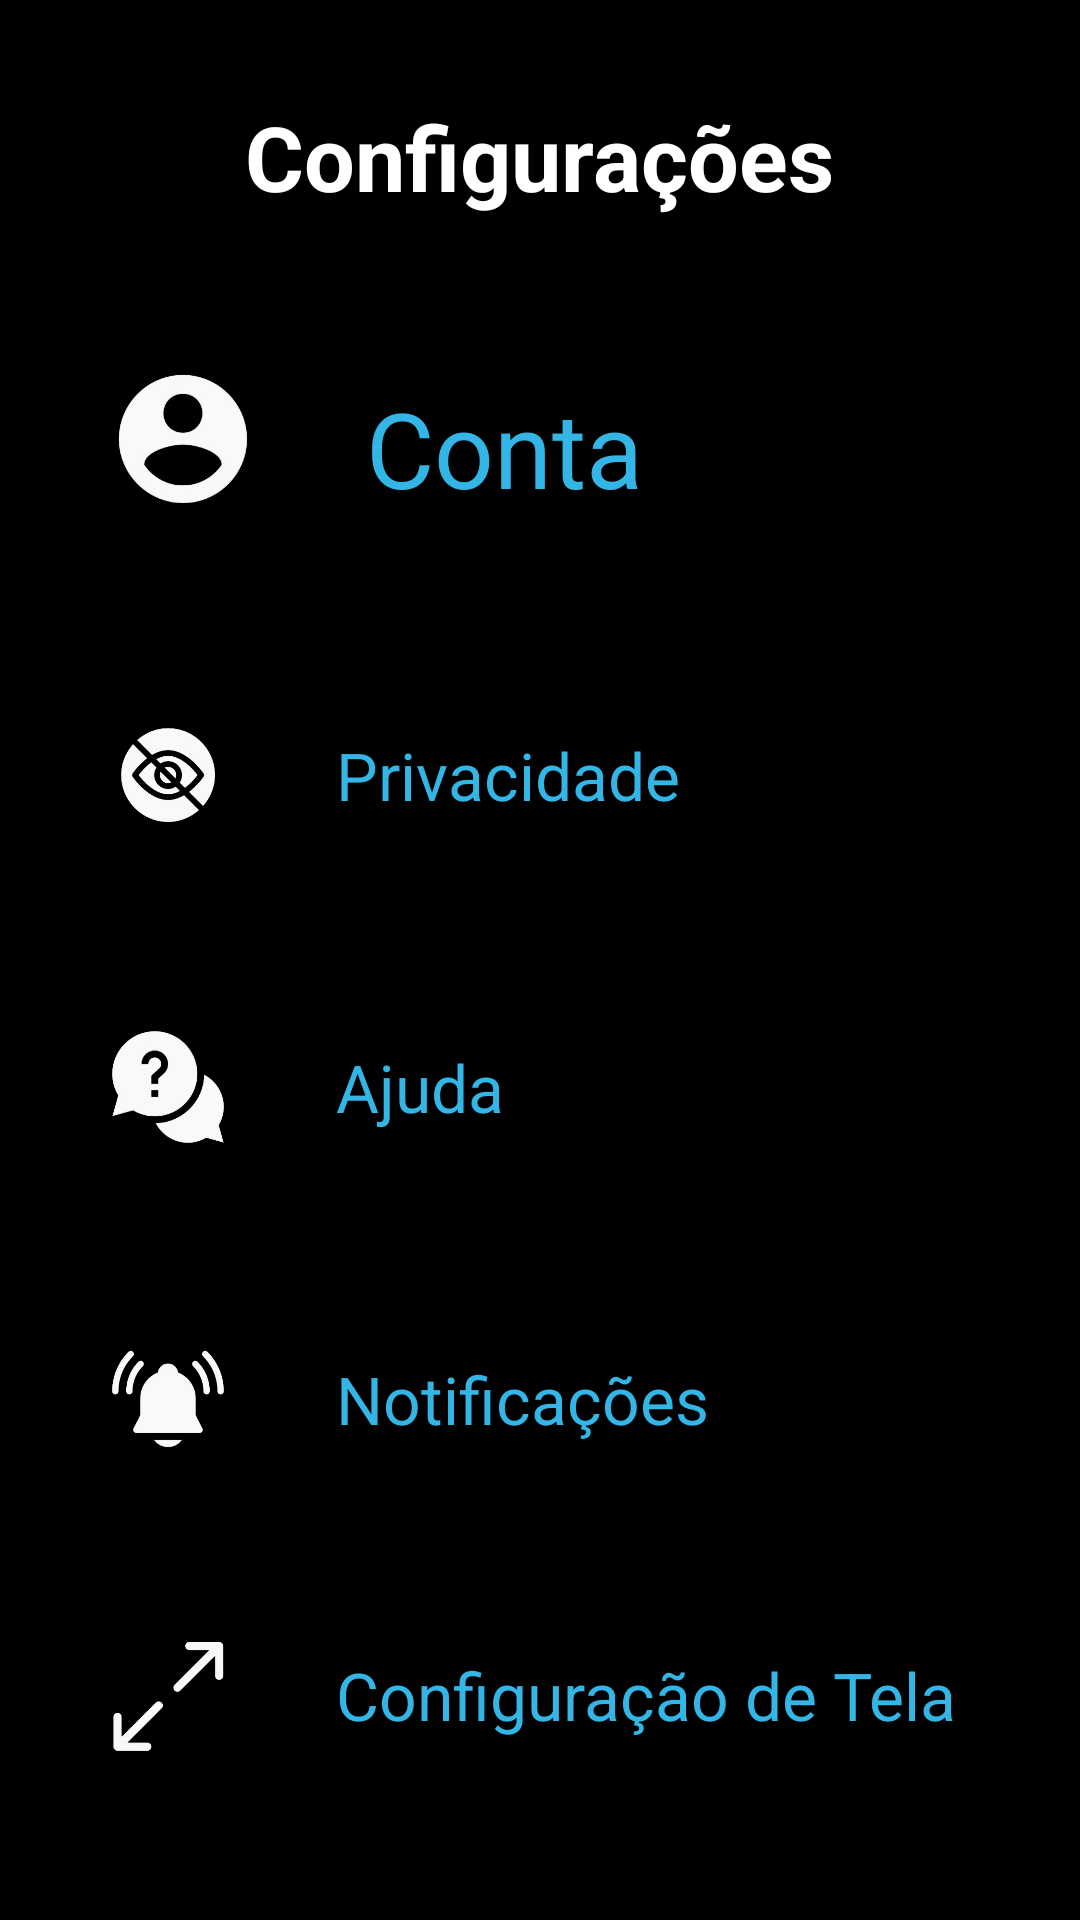

Point at icon controls on the screen. Image size 1080px x 1920px, points as (x=x, y=y).
notificacao: (x=168, y=1398)
